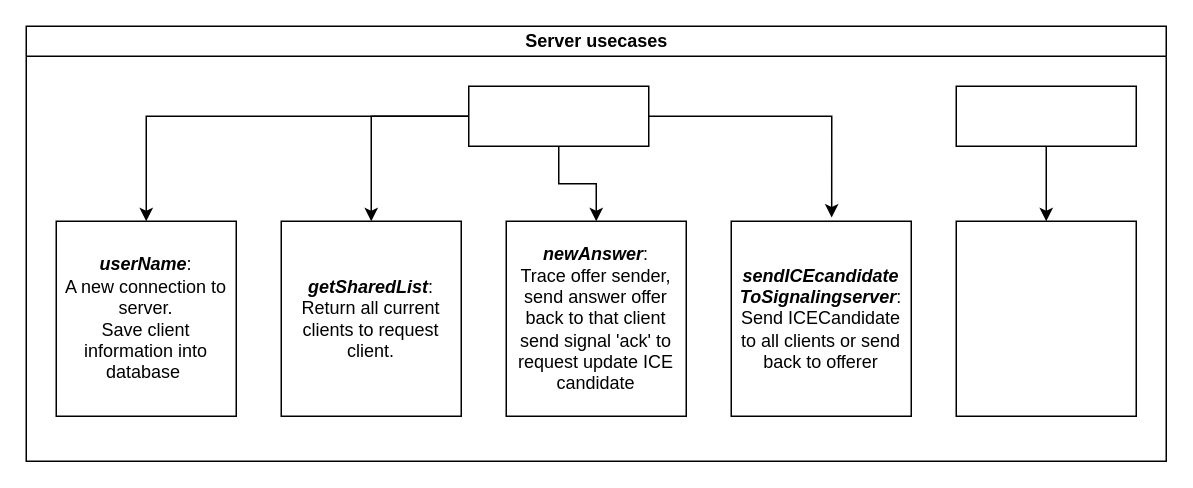
The diagram is 1193 pixels wide and 488 high, and some of its shapes have lost their labels. Each missing label, with the box of its shape:
onClose: (955, 85, 1136, 146)
onMessage: (467, 85, 649, 146)
remove client from database: (955, 220, 1136, 416)
